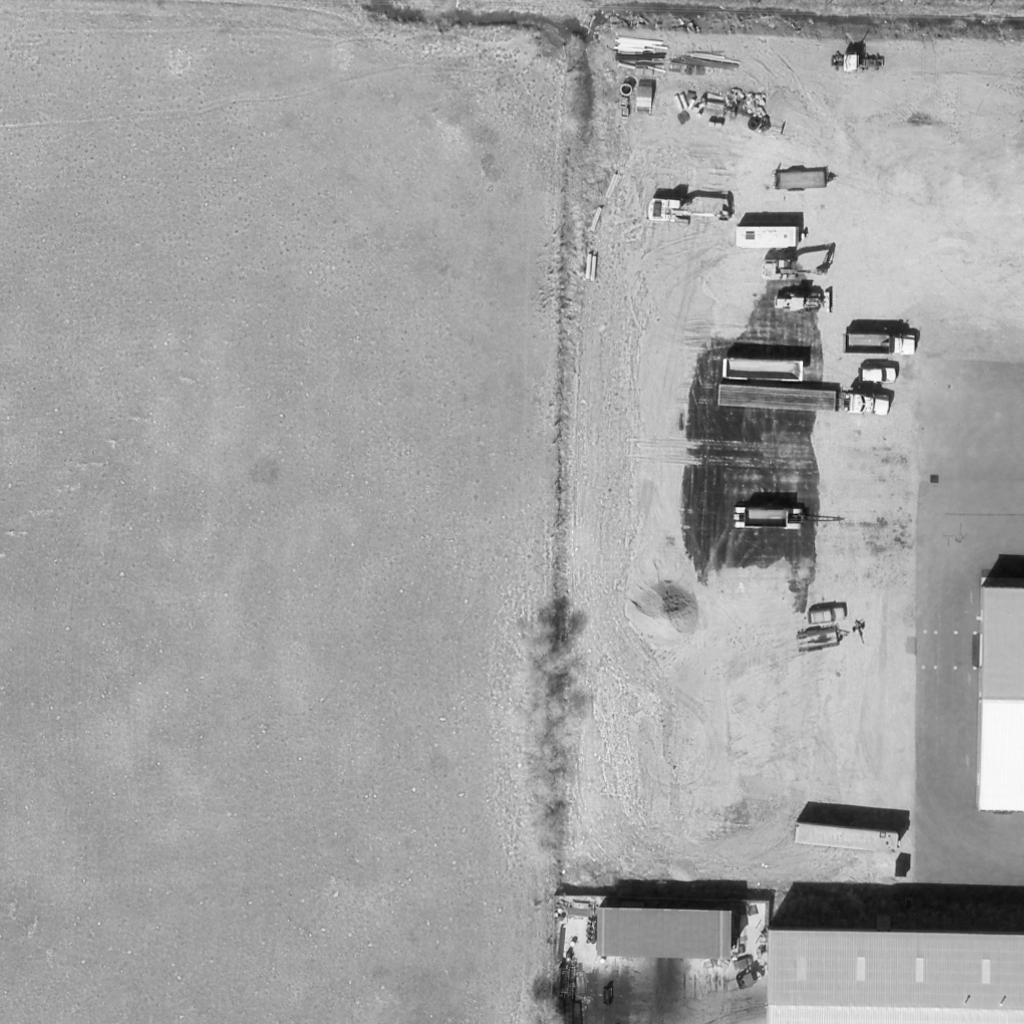vehicle: (717, 385, 893, 415), (647, 195, 735, 229), (844, 329, 918, 359), (759, 255, 833, 283), (776, 286, 834, 314), (737, 228, 805, 250), (806, 606, 848, 626), (858, 368, 900, 384)
